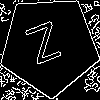Z: (24, 20, 68, 74)
